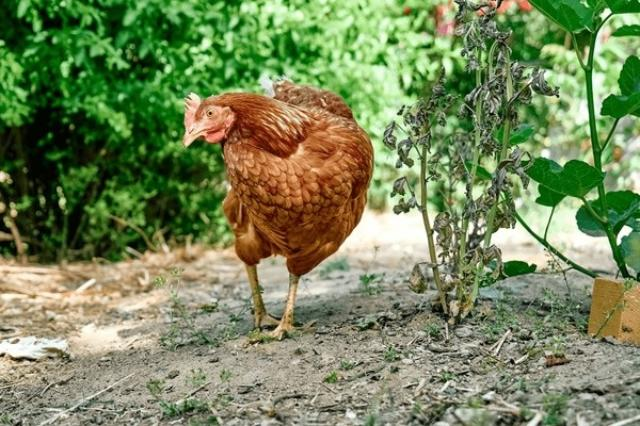Chicken: (181, 78, 375, 337)
